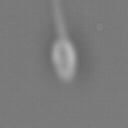normal: (42, 1, 79, 38)
